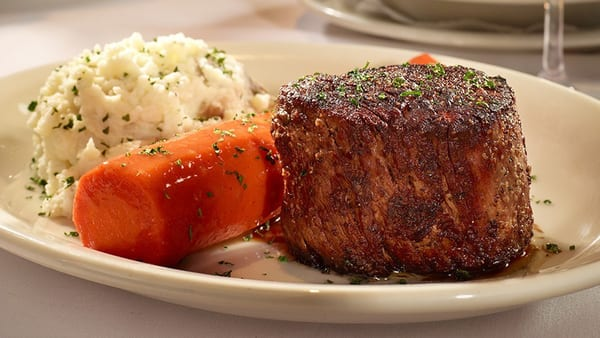sandwich: (536, 0, 600, 102)
sushi: (271, 56, 533, 280)
